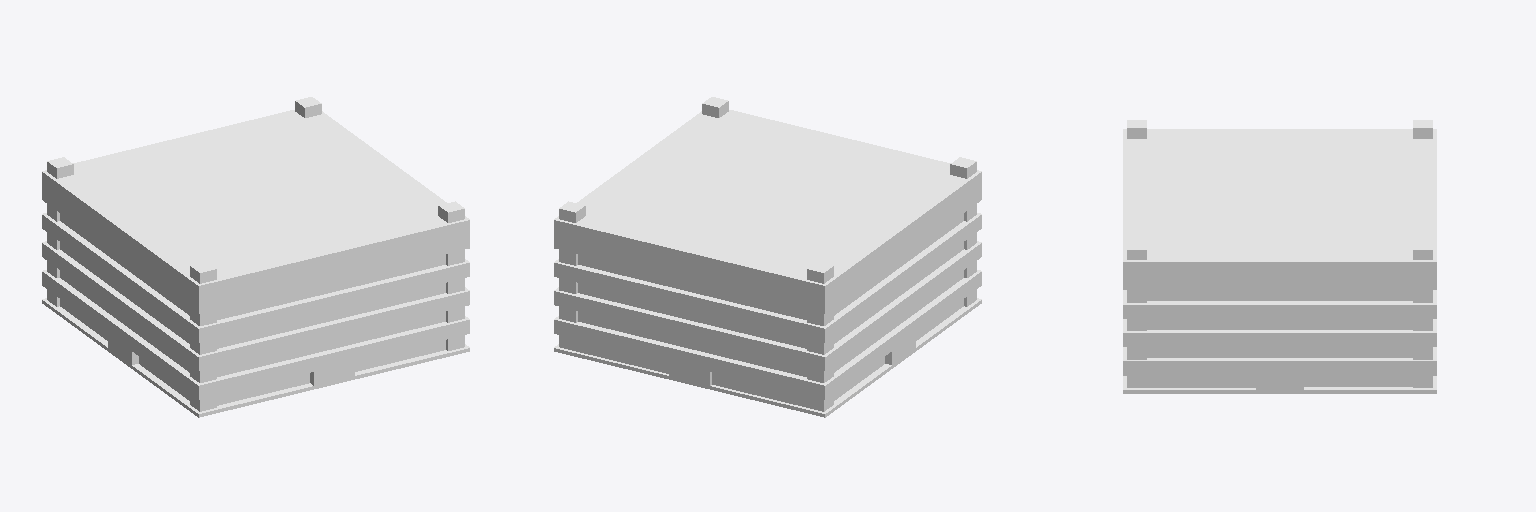
The model's file is Asset-16.obj.
The picture shows the model from 3 angles: view 1: azimuth 30°, elevation 25°; view 2: azimuth 150°, elevation 25°; view 3: azimuth 270°, elevation 25°; orthographic projection.
Visible parts, largest first — view 1: Asset-16; view 2: Asset-16; view 3: Asset-16.
Boxes of the visible parts, x1,y1,x2,y2 form: Asset-16: [42, 97, 469, 417]; Asset-16: [554, 97, 981, 417]; Asset-16: [1123, 120, 1436, 393].
Bounding box in the file's own units: 80 × 40 × 80.